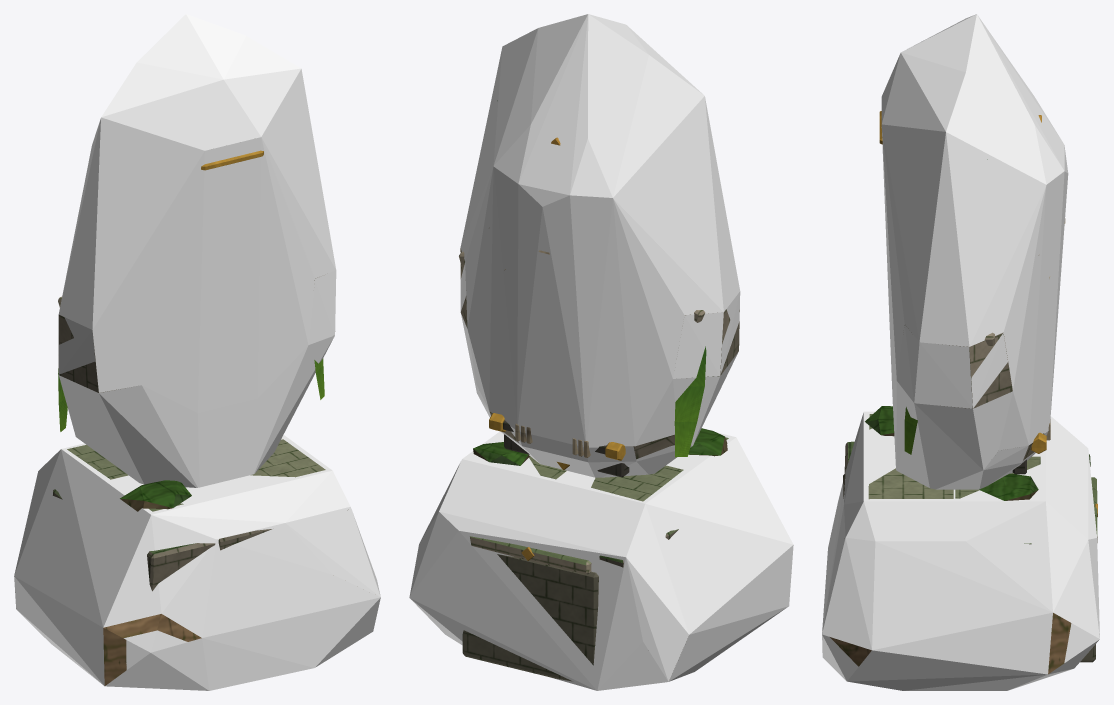
File: ancient_sea_god_idol.glb
3 views of the same model, side by side, from view 1: azimuth 30°, elevation 25°; view 2: azimuth 150°, elevation 25°; view 3: azimuth 270°, elevation 25° (orthographic).
Parts seen in each view (by area): view 1: col_idol_body, col_idol_plinth, AncientSeaGodIdol; view 2: col_idol_body, col_idol_plinth, AncientSeaGodIdol; view 3: col_idol_body, col_idol_plinth, AncientSeaGodIdol.
Boxes of the visible parts, x1=… form: col_idol_body: x1=58, y1=14, x2=336, y2=487; col_idol_plinth: x1=14, y1=435, x2=380, y2=690; AncientSeaGodIdol: x1=52, y1=150, x2=348, y2=685; col_idol_body: x1=460, y1=14, x2=740, y2=477; col_idol_plinth: x1=409, y1=431, x2=793, y2=690; AncientSeaGodIdol: x1=459, y1=100, x2=739, y2=681; col_idol_body: x1=881, y1=14, x2=1068, y2=489; col_idol_plinth: x1=822, y1=411, x2=1099, y2=690; AncientSeaGodIdol: x1=830, y1=111, x2=1097, y2=674.
Size of the model in its own units: 5.99 by 12.35 by 5.04.
Materials: 8 (6 with a texture image).
